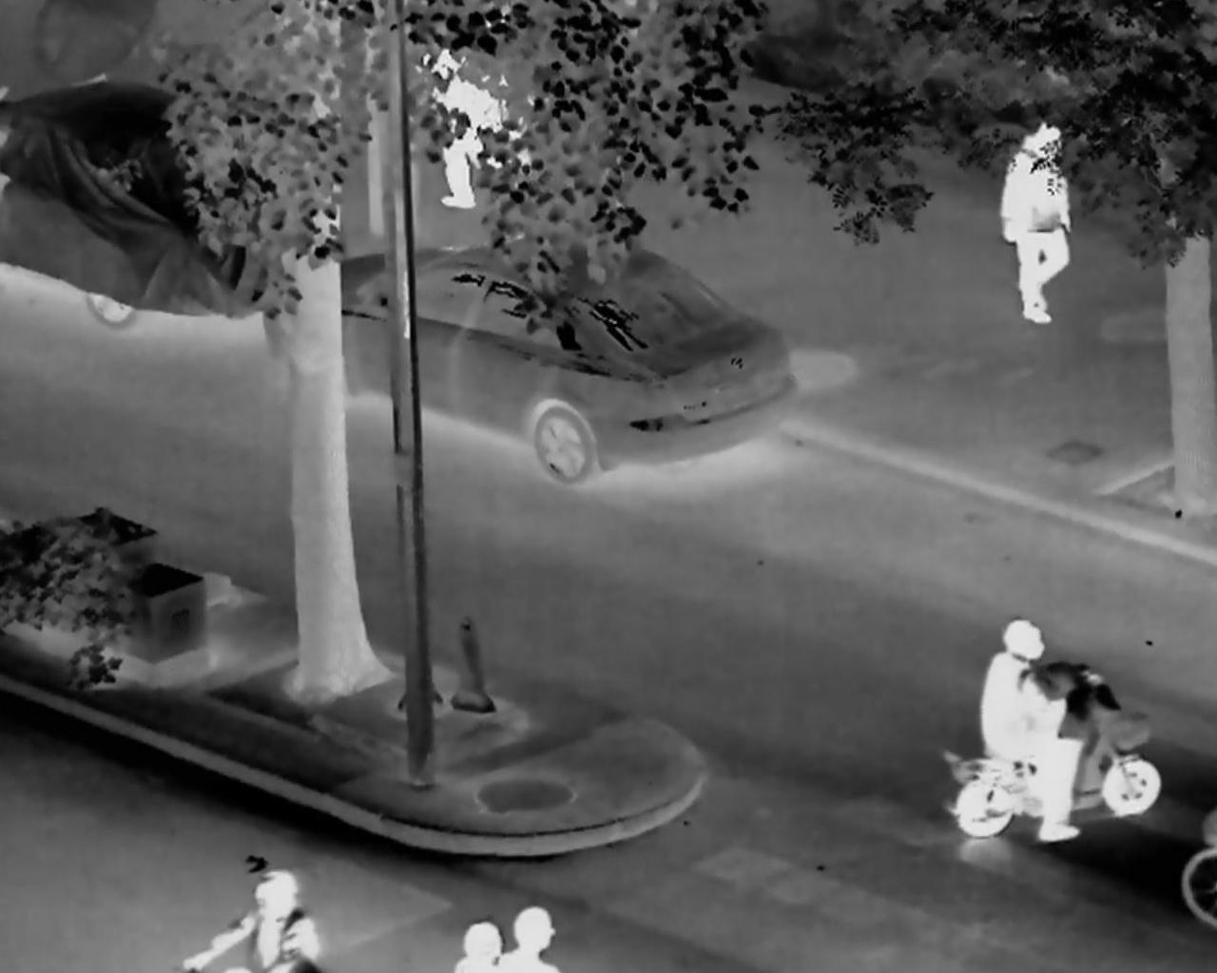person: (976, 619, 1082, 847), (997, 117, 1072, 324), (178, 875, 320, 973), (429, 23, 493, 207), (500, 904, 558, 973), (439, 918, 504, 973)
